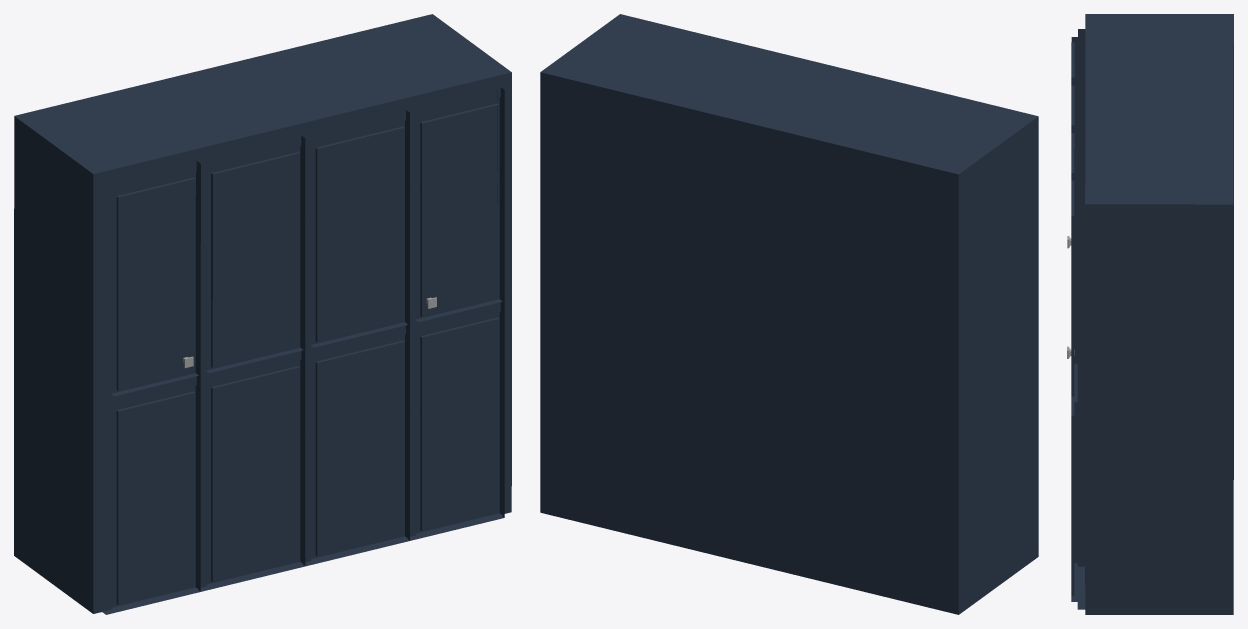
The model's file is pantry.gltf.
3 views of the same model, side by side, from view 1: azimuth 30°, elevation 25°; view 2: azimuth 150°, elevation 25°; view 3: azimuth 270°, elevation 25° (orthographic). The views are drawn at different scales.
Parts seen in each view (by area): view 1: struct, LM, RM, LL, RR; view 2: struct; view 3: struct, RR, RM, LM, LL.
Part boxes in pixels (box(x1,y1,x2,y2)): struct: box(14, 14, 511, 613); LM: box(197, 135, 305, 591); RM: box(302, 110, 409, 566); LL: box(102, 161, 200, 614); RR: box(406, 87, 504, 540); struct: box(540, 14, 1038, 614); struct: box(1085, 14, 1233, 614); RR: box(1067, 167, 1085, 609); RM: box(1071, 119, 1085, 174); LM: box(1071, 72, 1085, 127); LL: box(1067, 29, 1085, 248).
Size of the model in its own units: 4.94 by 4.96 by 1.83.
